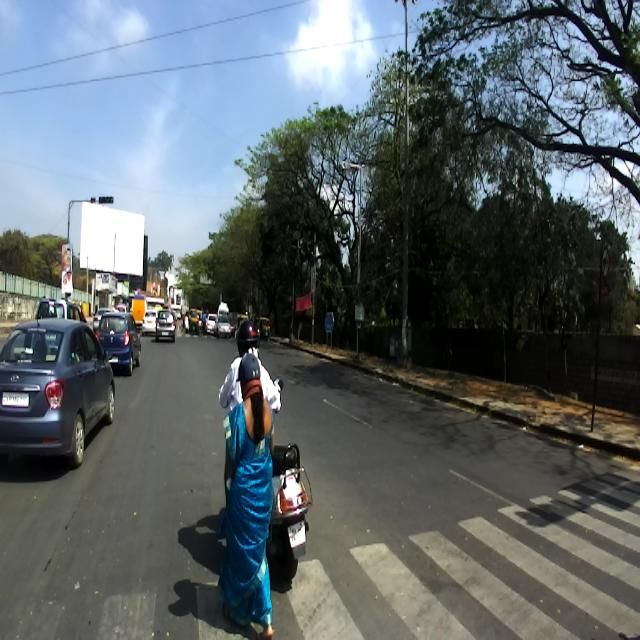car ahead at: (0, 316, 116, 491)
person ahead at: (224, 353, 282, 639)
